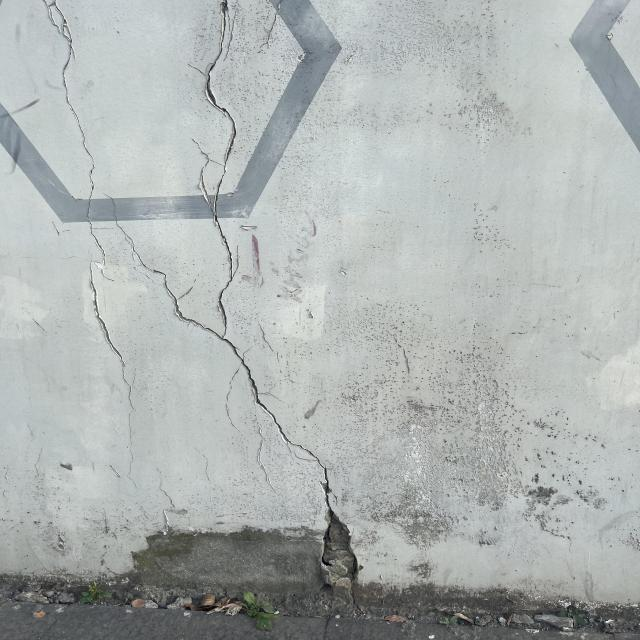crack: (116, 2, 337, 512), (22, 0, 148, 389)
mildew: (344, 376, 606, 514)
spalling: (157, 516, 380, 594)
